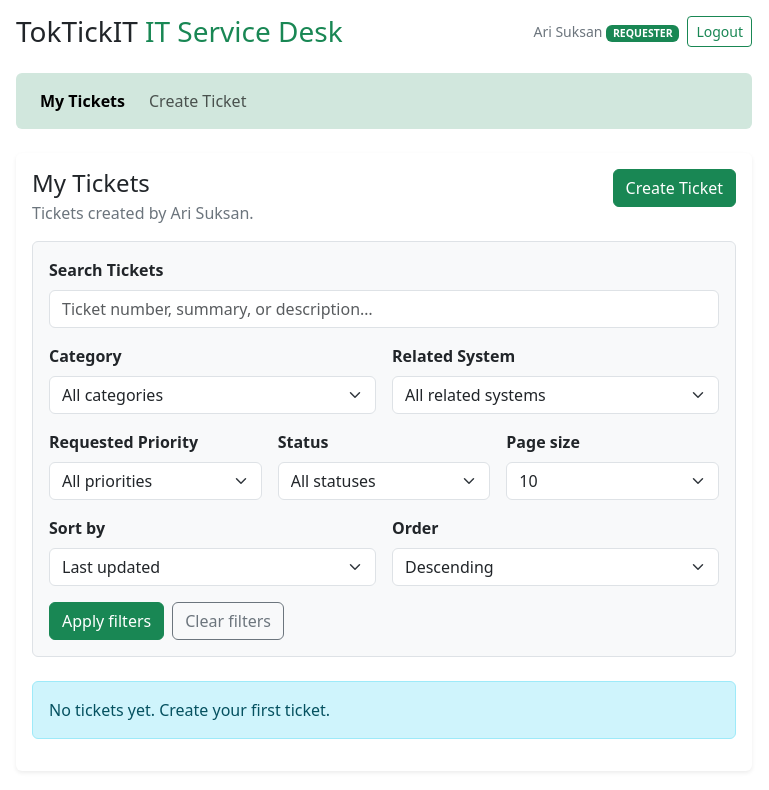
Scenario: My Tickets UI › distinguishes an empty list from a filtered no-results state
This screenshot has width=769, height=790.
Expected: the heading "My Tickets" is shown, [32,166,150,199]
Expected: the text "No tickets yet. Create your first ticket." is shown, [32,681,736,739]
In the field labelled "Search Tickets": {"x": 384, "y": 309} [49,290,719,328], type "missing"
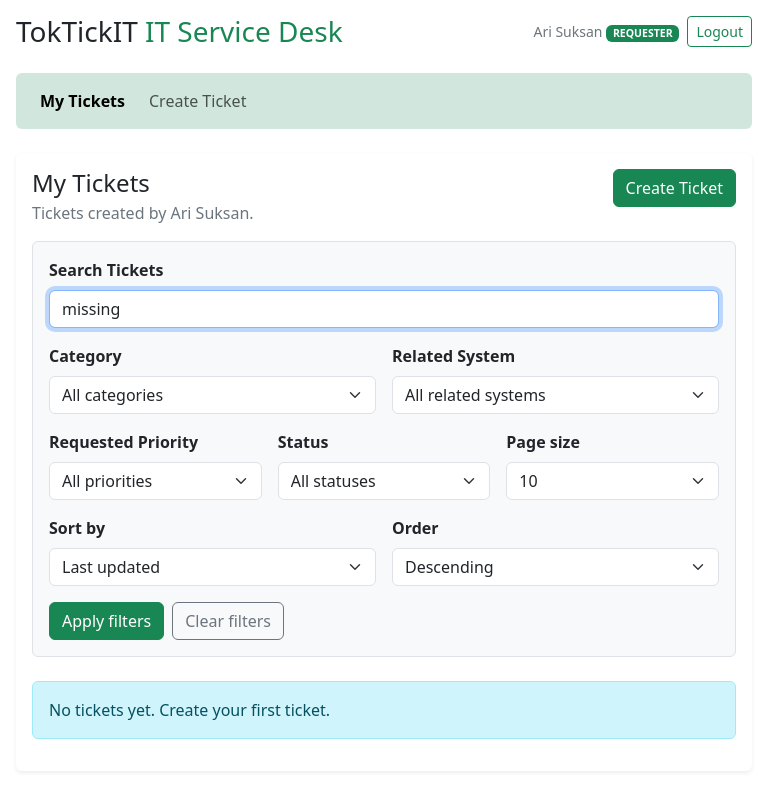
Click the button "Apply filters": {"x": 107, "y": 621} [49,602,164,640]
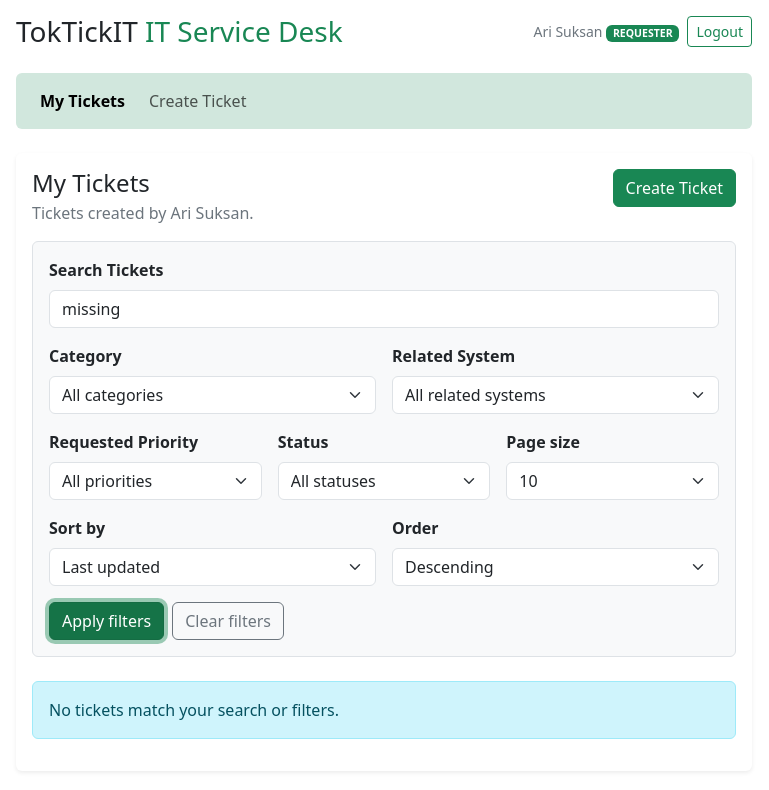
Expected: the text "No tickets match your search or filters." is shown, [32,681,736,739]
